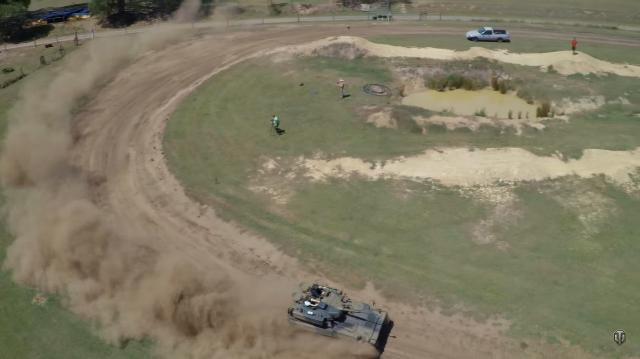other: (338, 76, 348, 102), (270, 115, 280, 137)
tank: (294, 287, 378, 344)
